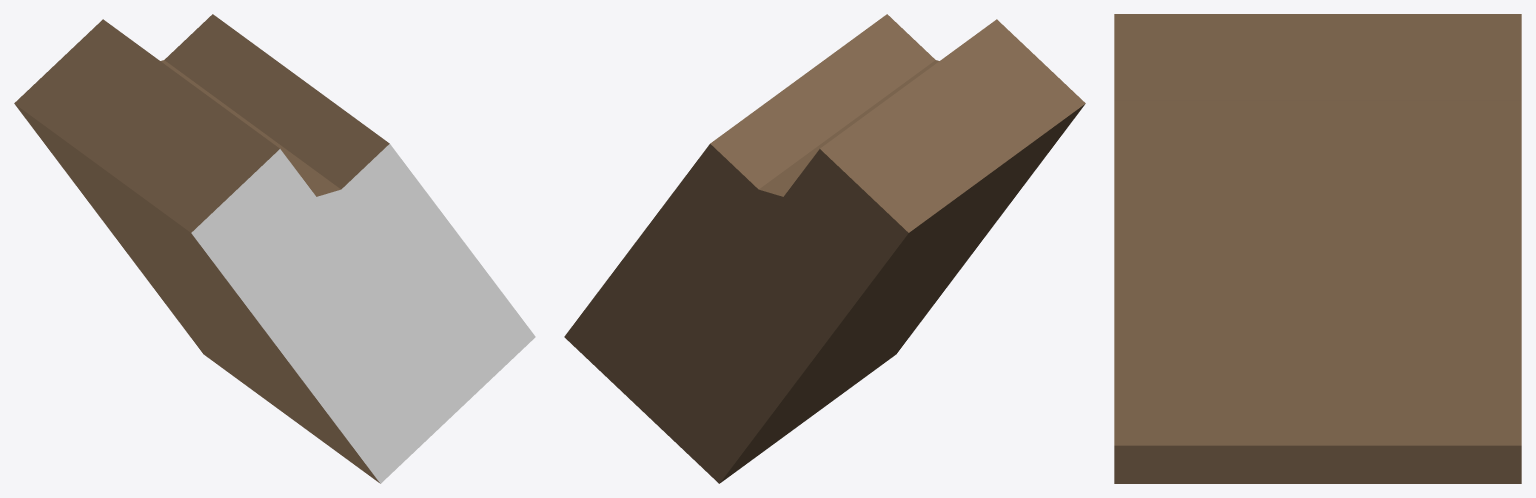
3 renders of one model, left to right at view 1: azimuth 30°, elevation 25°; view 2: azimuth 150°, elevation 25°; view 3: azimuth 270°, elevation 25°, orthographic. The views are drawn at different scales.
Parts seen in each view (by area): view 1: City_5254927; view 2: City_5254927; view 3: City_5254927.
Part boxes in pixels (<box>): City_5254927: <box>14,14,535,483</box>; City_5254927: <box>564,14,1085,483</box>; City_5254927: <box>1114,14,1521,483</box>.
Size of the model in its own units: 1562 by 1558 by 1390.
